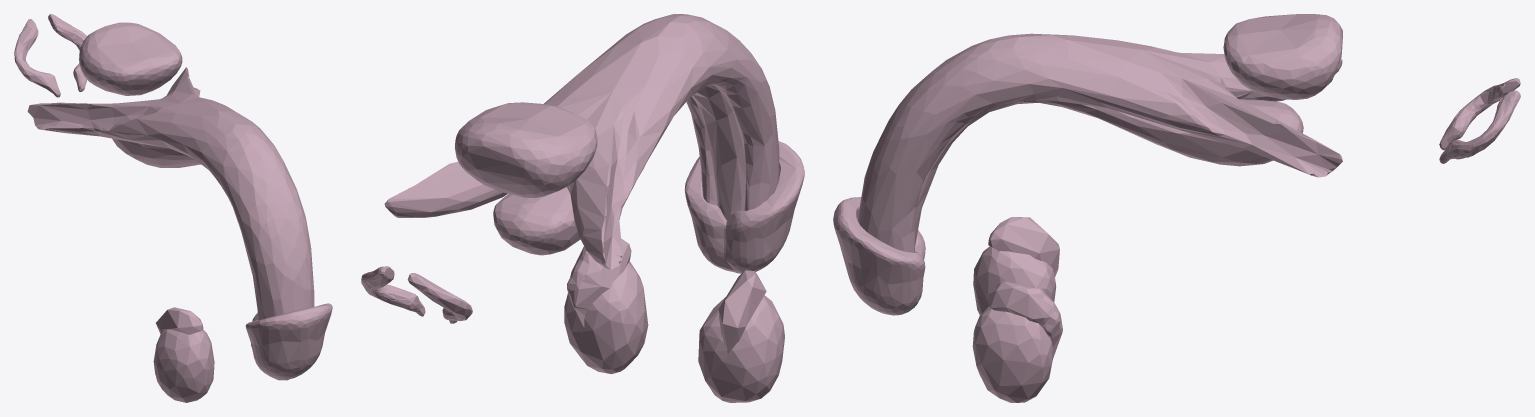
The model's file is reproductive.glb.
3 views of the same model, side by side, from view 1: azimuth 30°, elevation 25°; view 2: azimuth 150°, elevation 25°; view 3: azimuth 270°, elevation 25° (orthographic). The views are drawn at different scales.
Visible parts, largest first — view 1: FJ3132, FJ3139, FJ3134, FJ3142, FJ3133, FJ3141, FJ2548, FJ1450, FJ2543, FJ1450M; view 2: FJ3132, FJ3139, FJ3133, FJ3134, FJ3142, FJ3138, FJ3136, FJ3141, FJ1450, FJ2543, FJ1450M, FJ2548; view 3: FJ3132, FJ3139, FJ3134, FJ3138, FJ3133, FJ3142, FJ3136, FJ3141, FJ1450M, FJ1450, FJ2543, FJ2548.
Part boxes in pixels (bbox=[...]): FJ3132: bbox=[27, 67, 314, 320]; FJ3139: bbox=[79, 22, 182, 95]; FJ3134: bbox=[245, 303, 332, 379]; FJ3142: bbox=[153, 329, 214, 402]; FJ3133: bbox=[112, 138, 201, 167]; FJ3141: bbox=[156, 307, 203, 334]; FJ2548: bbox=[15, 19, 60, 97]; FJ1450: bbox=[14, 20, 60, 97]; FJ2543: bbox=[48, 14, 87, 91]; FJ1450M: bbox=[48, 14, 87, 91]; FJ3132: bbox=[384, 14, 779, 269]; FJ3139: bbox=[455, 102, 597, 197]; FJ3133: bbox=[493, 85, 746, 255]; FJ3134: bbox=[684, 141, 804, 273]; FJ3142: bbox=[698, 295, 784, 402]; FJ3138: bbox=[564, 261, 648, 374]; FJ3136: bbox=[567, 238, 631, 334]; FJ3141: bbox=[718, 270, 766, 354]; FJ1450: bbox=[407, 273, 472, 323]; FJ2543: bbox=[361, 266, 425, 315]; FJ1450M: bbox=[361, 266, 425, 316]; FJ2548: bbox=[410, 273, 472, 322]; FJ3132: bbox=[857, 33, 1342, 252]; FJ3139: bbox=[1223, 14, 1342, 99]; FJ3134: bbox=[833, 197, 925, 315]; FJ3138: bbox=[972, 306, 1053, 402]; FJ3133: bbox=[914, 99, 1303, 248]; FJ3142: bbox=[973, 246, 1056, 315]; FJ3136: bbox=[987, 281, 1062, 358]; FJ3141: bbox=[988, 217, 1059, 276]; FJ1450M: bbox=[1439, 90, 1519, 163]; FJ1450: bbox=[1440, 79, 1520, 150]; FJ2543: bbox=[1439, 91, 1520, 163]; FJ2548: bbox=[1439, 78, 1518, 149].
Size of the model in its own units: 0.0632 by 0.1027 by 0.184.
